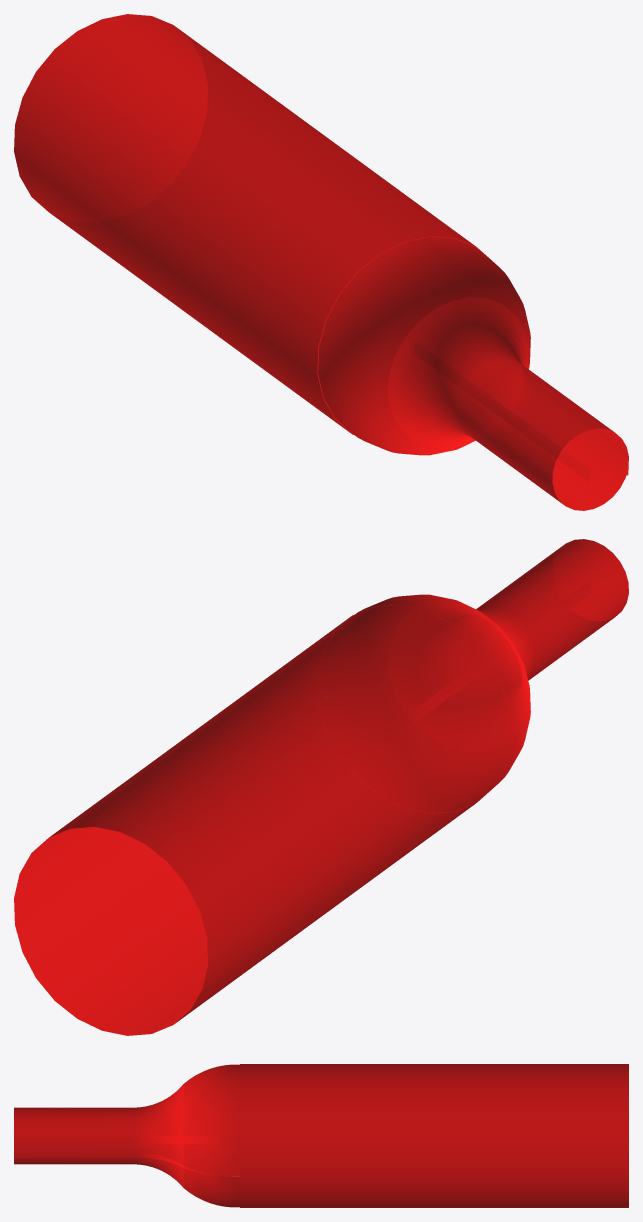
The model's file is model_scale.obj.
3 renders of one model, top to bottom at view 1: azimuth 30°, elevation 25°; view 2: azimuth 150°, elevation 25°; view 3: azimuth 270°, elevation 25°, orthographic. The views are drawn at different scales.
Visible parts, largest first — view 1: mesh1_mesh1-geometry, mesh2_mesh2-geometry; view 2: mesh1_mesh1-geometry, mesh2_mesh2-geometry; view 3: mesh1_mesh1-geometry, mesh2_mesh2-geometry.
Boxes of the visible parts, box(x1,y1,x2,y2) form: mesh1_mesh1-geometry: box(14, 14, 628, 510); mesh2_mesh2-geometry: box(414, 342, 589, 481); mesh1_mesh1-geometry: box(14, 539, 628, 1035); mesh2_mesh2-geometry: box(415, 582, 590, 721); mesh1_mesh1-geometry: box(14, 1064, 628, 1207); mesh2_mesh2-geometry: box(14, 1136, 239, 1143).
Bounding box in the file's own units: 0.0611 × 0.0611 × 0.2613.
